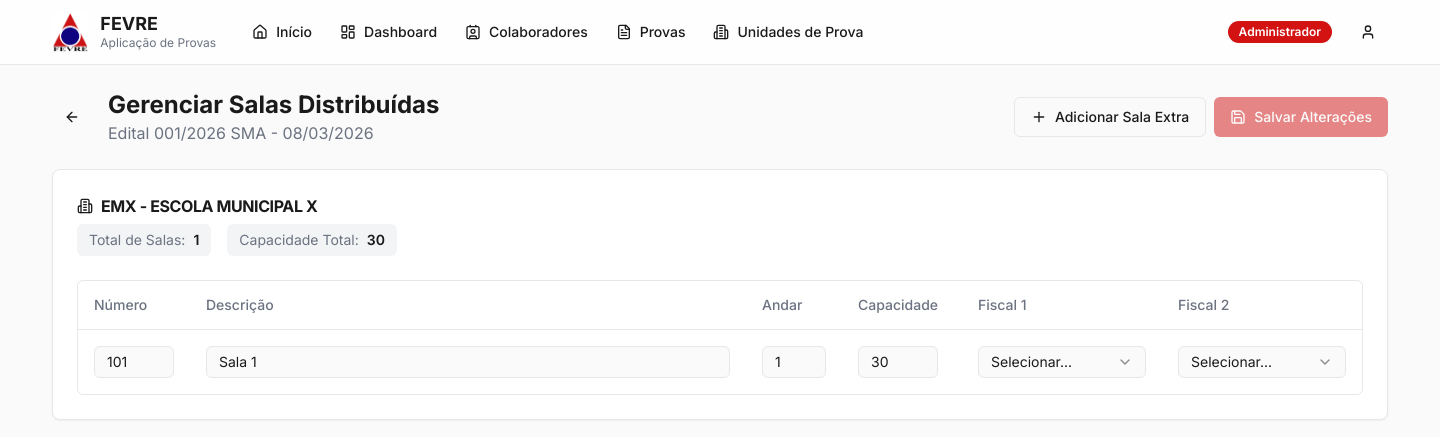
Test: GerenciarSalasDistribuidas — campos numéricos aceitam ficar vazios › 🔴 apagar a capacidade DEIXA o campo vazio — não repõe o valor antigo
Clear the 3rd number field showing "30" at [898, 362], box [858, 346, 938, 378]
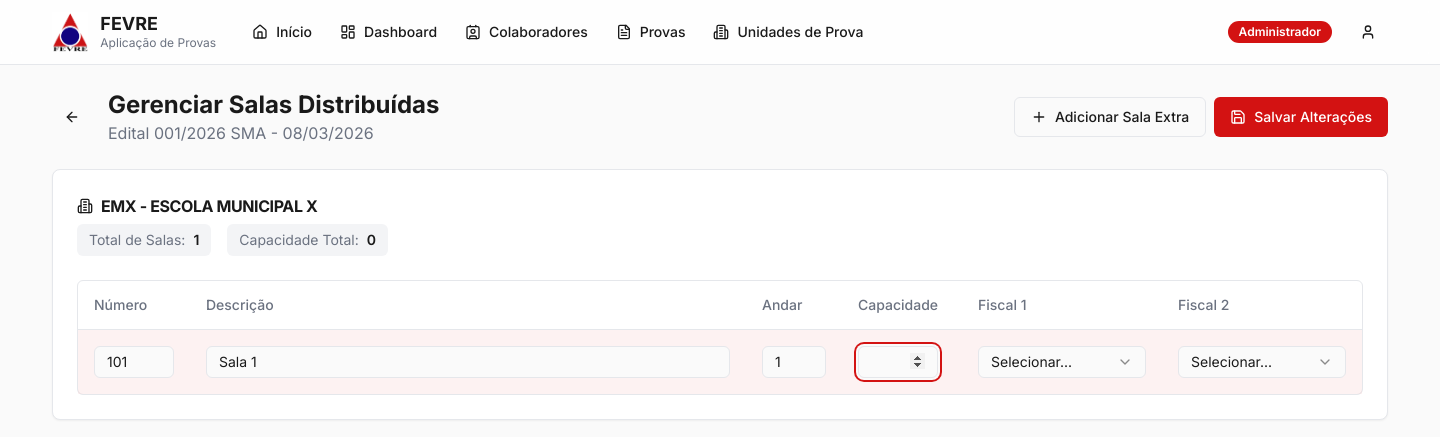
Now the text showing "30" is gone
